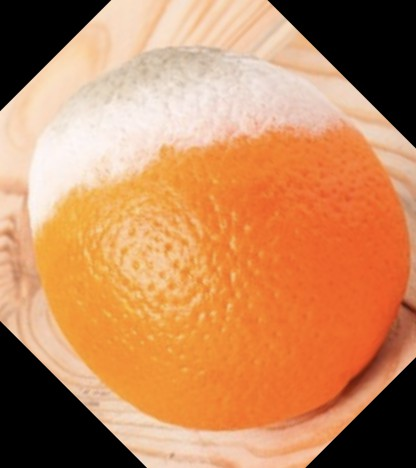rotten_orange: (26, 48, 410, 430)
